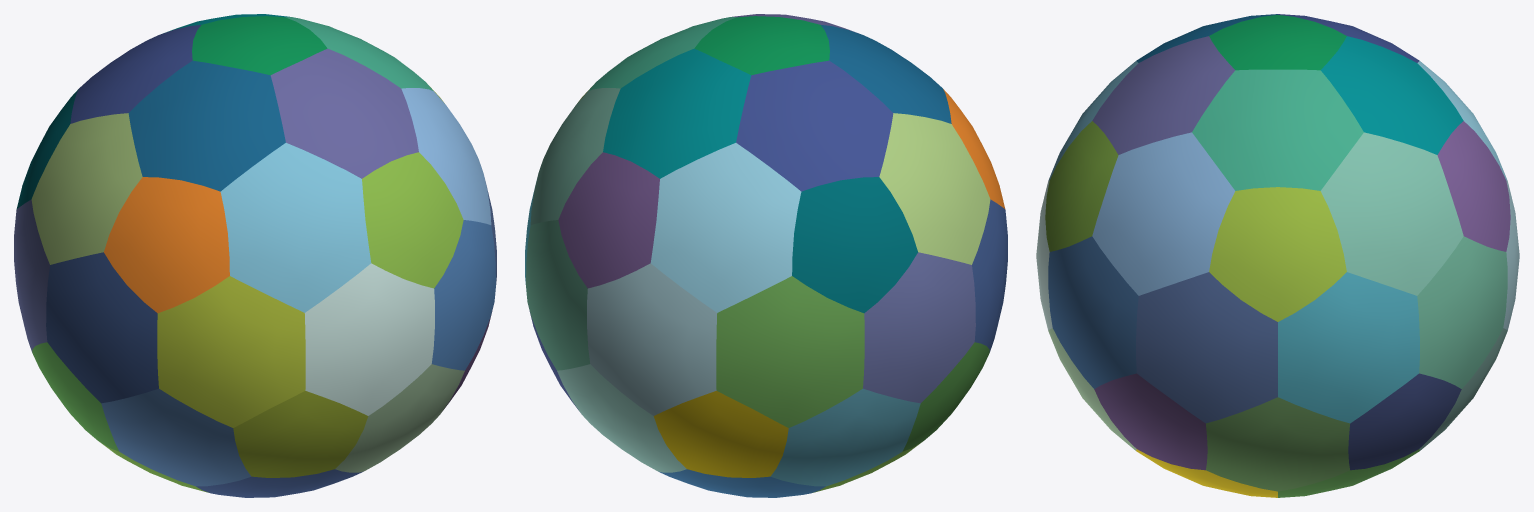
The model's file is Football.fbx.
3 views of the same model, side by side, from view 1: azimuth 30°, elevation 25°; view 2: azimuth 150°, elevation 25°; view 3: azimuth 270°, elevation 25° (orthographic).
Visible parts, largest first — view 1: Football; view 2: Football; view 3: Football.
Part boxes in pixels (box(x1,y1,x2,y2)): Football: box(14, 14, 496, 497); Football: box(525, 14, 1007, 497); Football: box(1036, 14, 1519, 497).
Bounding box in the file's own units: 0.7931 × 0.7988 × 0.7941.
1 material, 1 textured.
